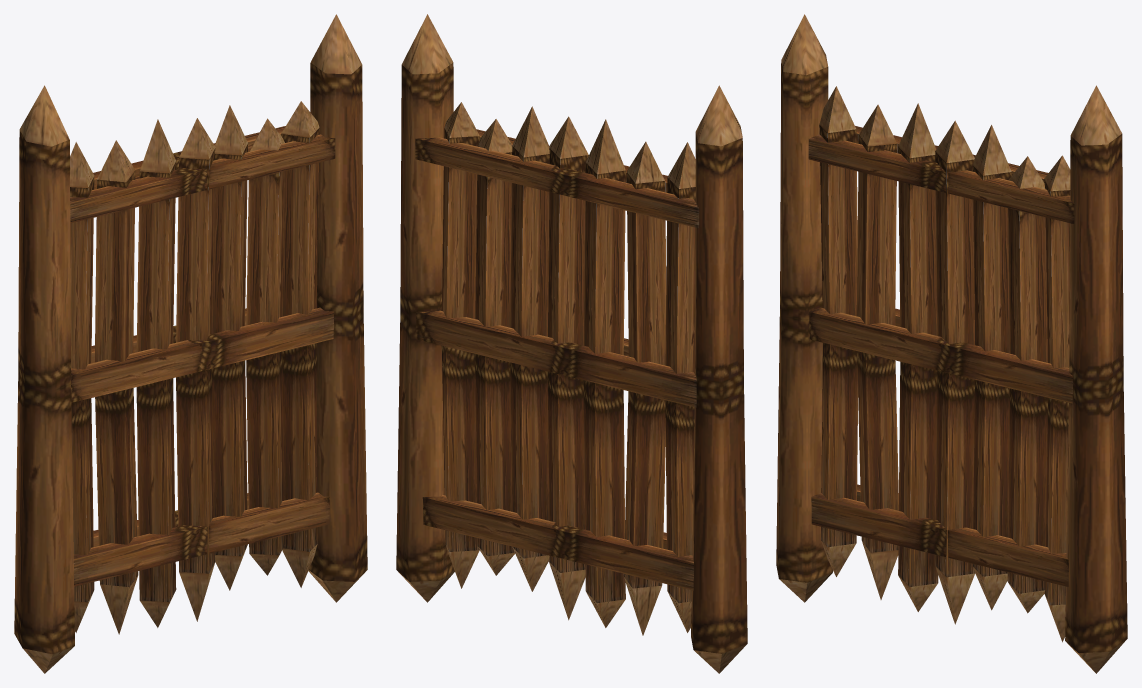
File: environment_Building_yingzhai_001_c.FBX
3 views of the same model, side by side, from view 1: azimuth 30°, elevation 25°; view 2: azimuth 150°, elevation 25°; view 3: azimuth 330°, elevation 25° (orthographic).
Visible parts, largest first — view 1: environment_Building_yingzhai_001_c; view 2: environment_Building_yingzhai_001_c; view 3: environment_Building_yingzhai_001_c.
Boxes of the visible parts, <box> form: environment_Building_yingzhai_001_c: <box>14,14,367,673</box>; environment_Building_yingzhai_001_c: <box>396,14,747,673</box>; environment_Building_yingzhai_001_c: <box>776,14,1127,673</box>.
Size of the model in its own units: 260 by 48.08 by 431.
